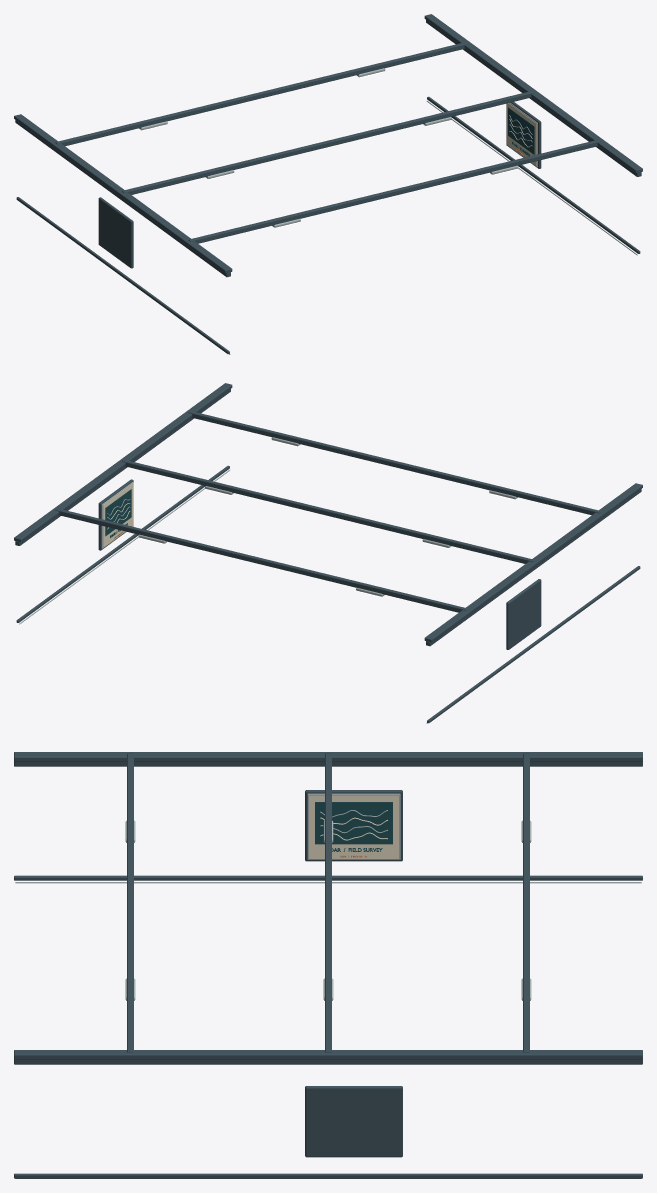
The model's file is experience-detail.glb.
The picture shows the model from 3 angles, top to bottom: view 1: azimuth 30°, elevation 25°; view 2: azimuth 150°, elevation 25°; view 3: azimuth 270°, elevation 25°; orthographic projection. The views are drawn at different scales.
Visible parts, largest first — view 1: experience finish work; view 2: experience finish work; view 3: experience finish work.
Part boxes in pixels (x1,y1,x2,y2): experience finish work: (14, 14, 642, 354); experience finish work: (14, 383, 642, 723); experience finish work: (14, 752, 642, 1178).
Size of the model in its own units: 17.98 by 3.57 by 15.76.
